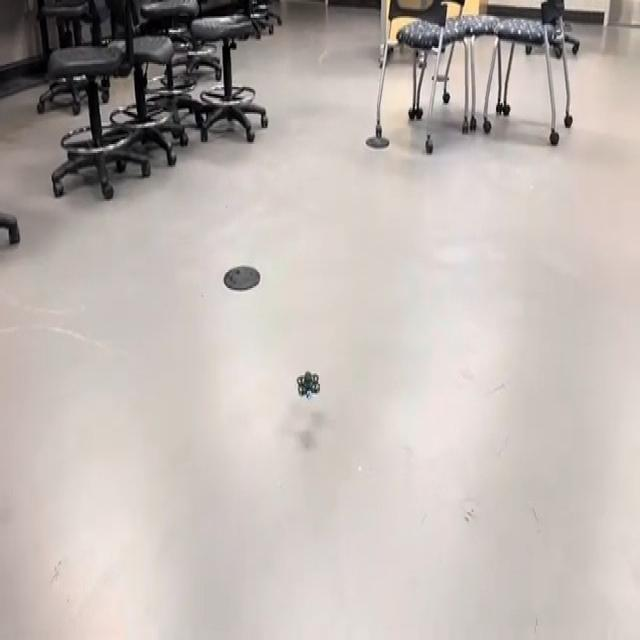drone: (291, 356, 327, 414)
